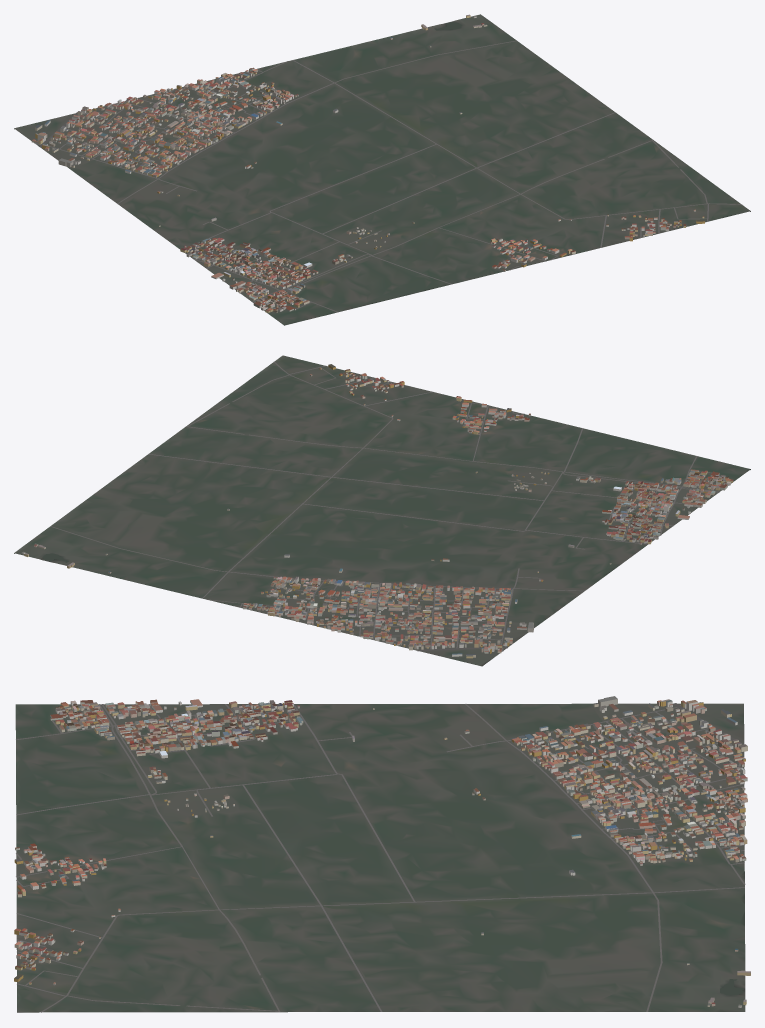
3 views of the same model, one above another, from view 1: azimuth 30°, elevation 25°; view 2: azimuth 150°, elevation 25°; view 3: azimuth 270°, elevation 25° (orthographic). The views are drawn at different scales.
Parts seen in each view (by area): view 1: ground, buildings, roads; view 2: ground, buildings, roads; view 3: ground, buildings, roads.
Boxes of the visible parts, x1=… form: ground: x1=14, y1=14, x2=750, y2=325; buildings: x1=31, y1=14, x2=704, y2=312; roads: x1=34, y1=40, x2=741, y2=312; ground: x1=14, y1=355, x2=750, y2=666; buildings: x1=21, y1=364, x2=733, y2=658; roads: x1=50, y1=361, x2=719, y2=651; ground: x1=15, y1=703, x2=745, y2=1012; buildings: x1=14, y1=696, x2=750, y2=1007; roads: x1=16, y1=703, x2=745, y2=1012.
Size of the model in its own units: 1420 by 20.5 by 1418.
